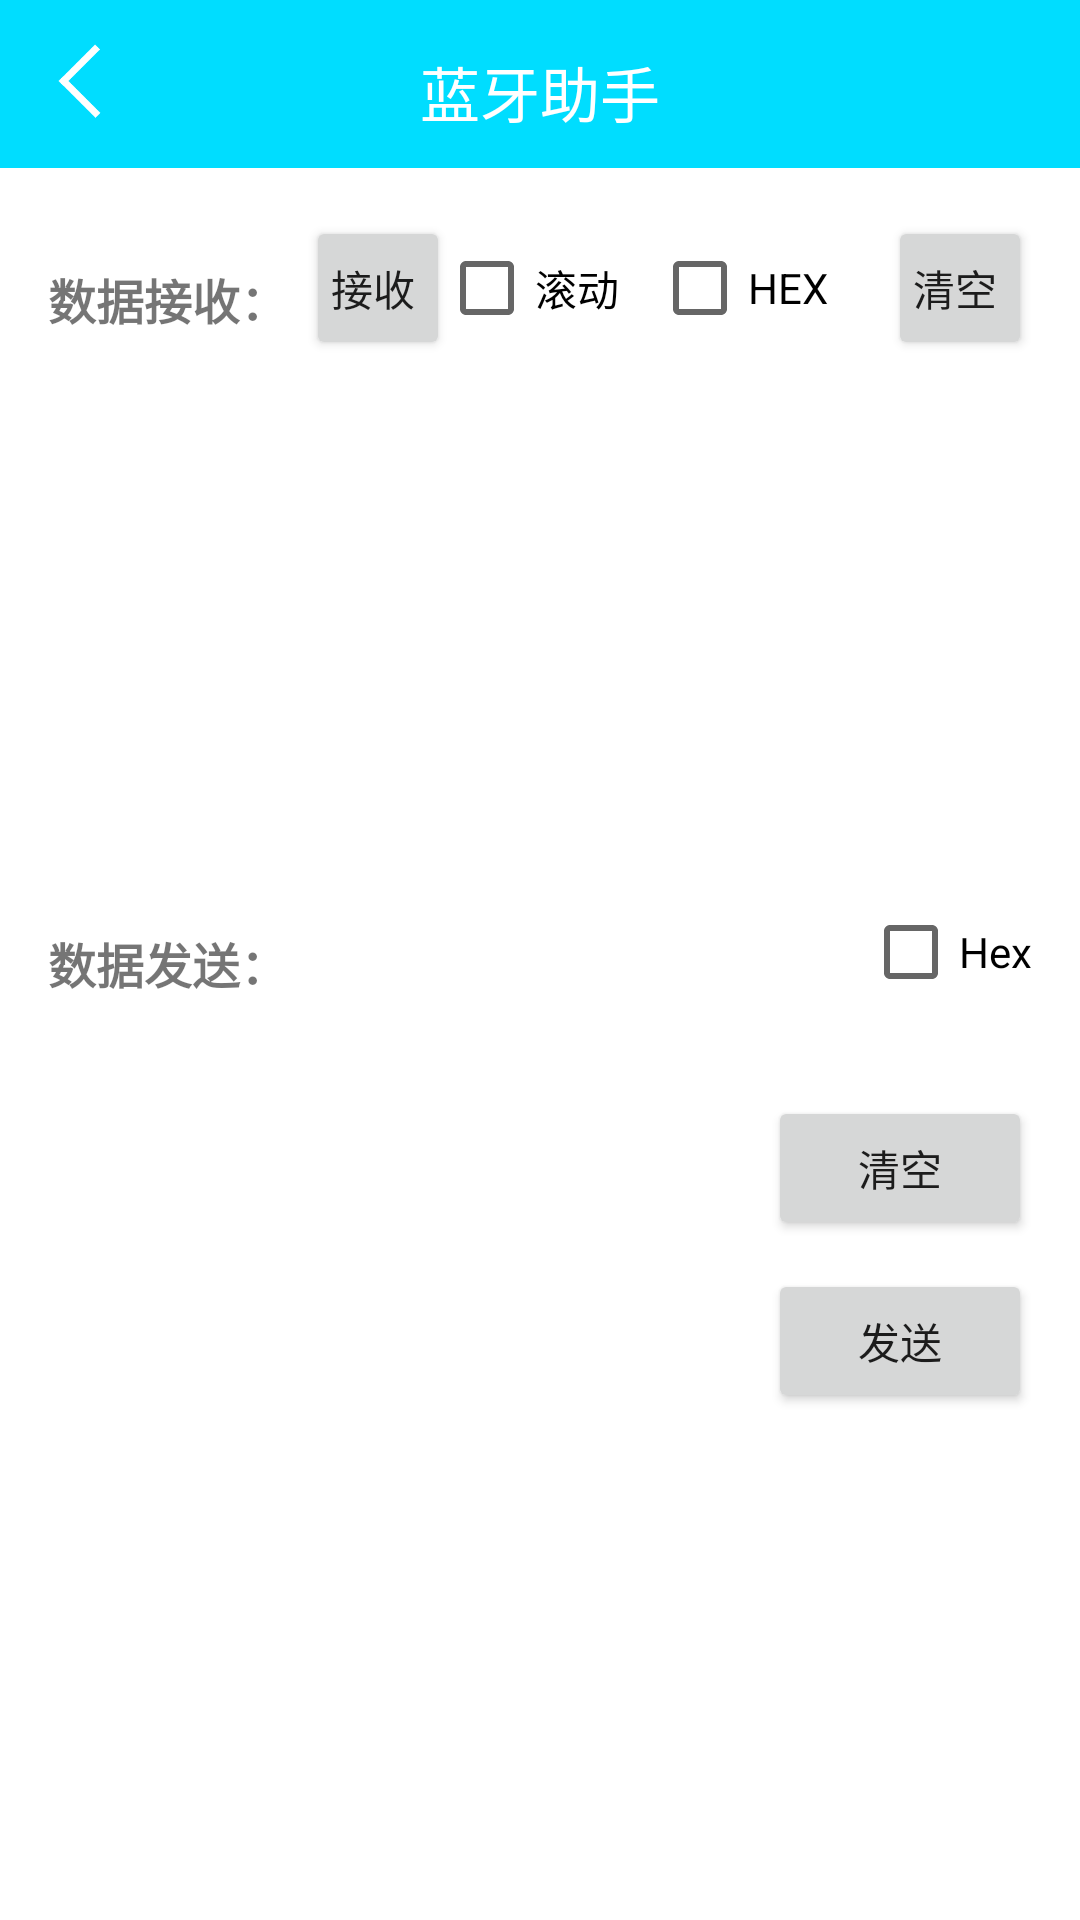

Icon click points for this 1080*1920 phone screenshot, format (x=x, y=y):
back: (x=79, y=81)
